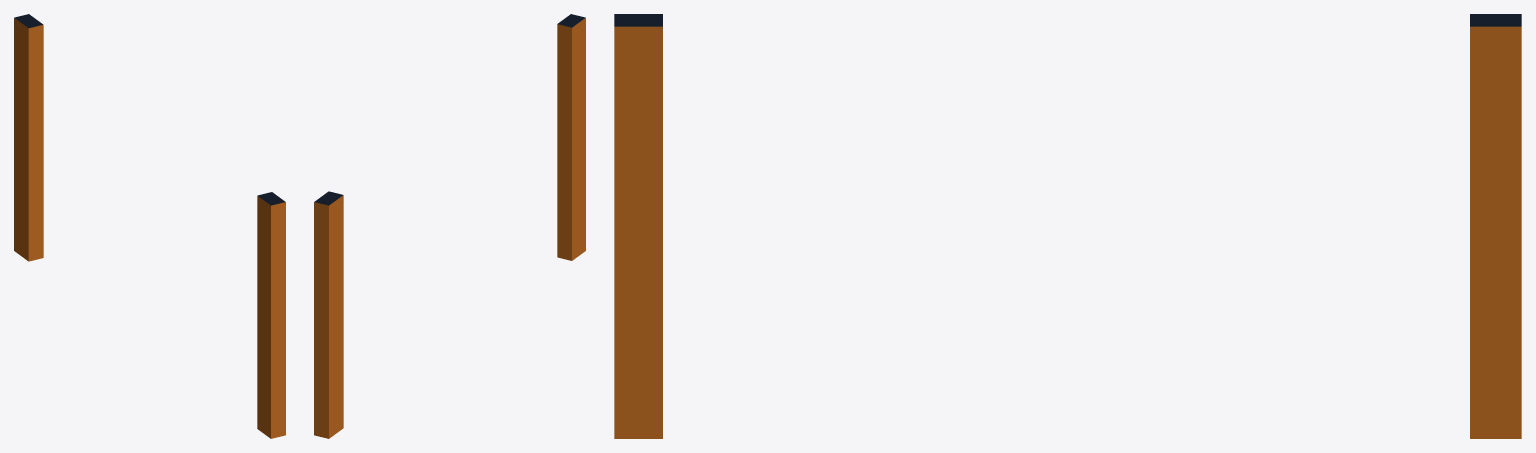
File: Porte_Double_Mur1.FBX
The picture shows the model from 3 angles, left to right: view 1: azimuth 30°, elevation 25°; view 2: azimuth 150°, elevation 25°; view 3: azimuth 270°, elevation 25°; orthographic projection. The views are drawn at different scales.
Parts seen in each view (by area): view 1: Porte_Double_Mur1; view 2: Porte_Double_Mur1; view 3: Porte_Double_Mur1.
Boxes of the visible parts, left/top/right/bottom form: Porte_Double_Mur1: left=14, top=14, right=285, bottom=438; Porte_Double_Mur1: left=314, top=14, right=585, bottom=438; Porte_Double_Mur1: left=614, top=14, right=1521, bottom=438.
Bounding box in the file's own units: 0.1 × 1.5 × 2.99.
